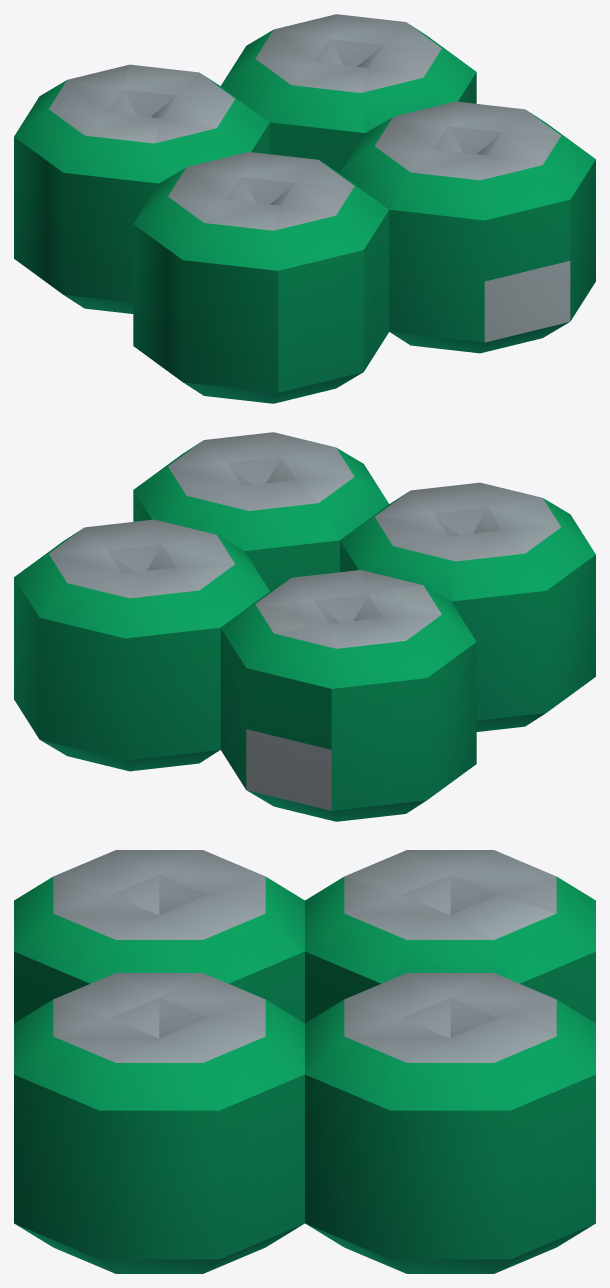
Rendered from containers_a.glb.
The picture shows the model from 3 angles, top to bottom: view 1: azimuth 30°, elevation 25°; view 2: azimuth 150°, elevation 25°; view 3: azimuth 270°, elevation 25°; orthographic projection. The views are drawn at different scales.
Parts seen in each view (by area): view 1: containers_A; view 2: containers_A; view 3: containers_A.
Boxes of the visible parts, x1,y1,x2,y2 form: containers_A: (14, 14, 595, 403); containers_A: (14, 432, 595, 821); containers_A: (14, 850, 595, 1273).
Size of the model in its own units: 0.5 by 0.2 by 0.5.
Materials: 1 (1 with a texture image).
